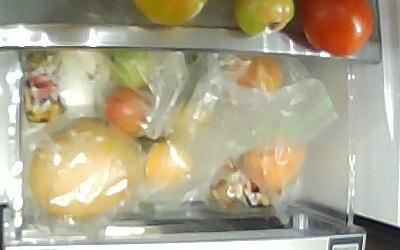peach_vinyl: (244, 133, 305, 191), (221, 52, 284, 104)
pear_vinyl: (30, 118, 143, 219)
tangerine_vinyl: (148, 138, 190, 186), (170, 100, 207, 146)
tomato_vinyl: (106, 89, 153, 137), (112, 49, 153, 88)
